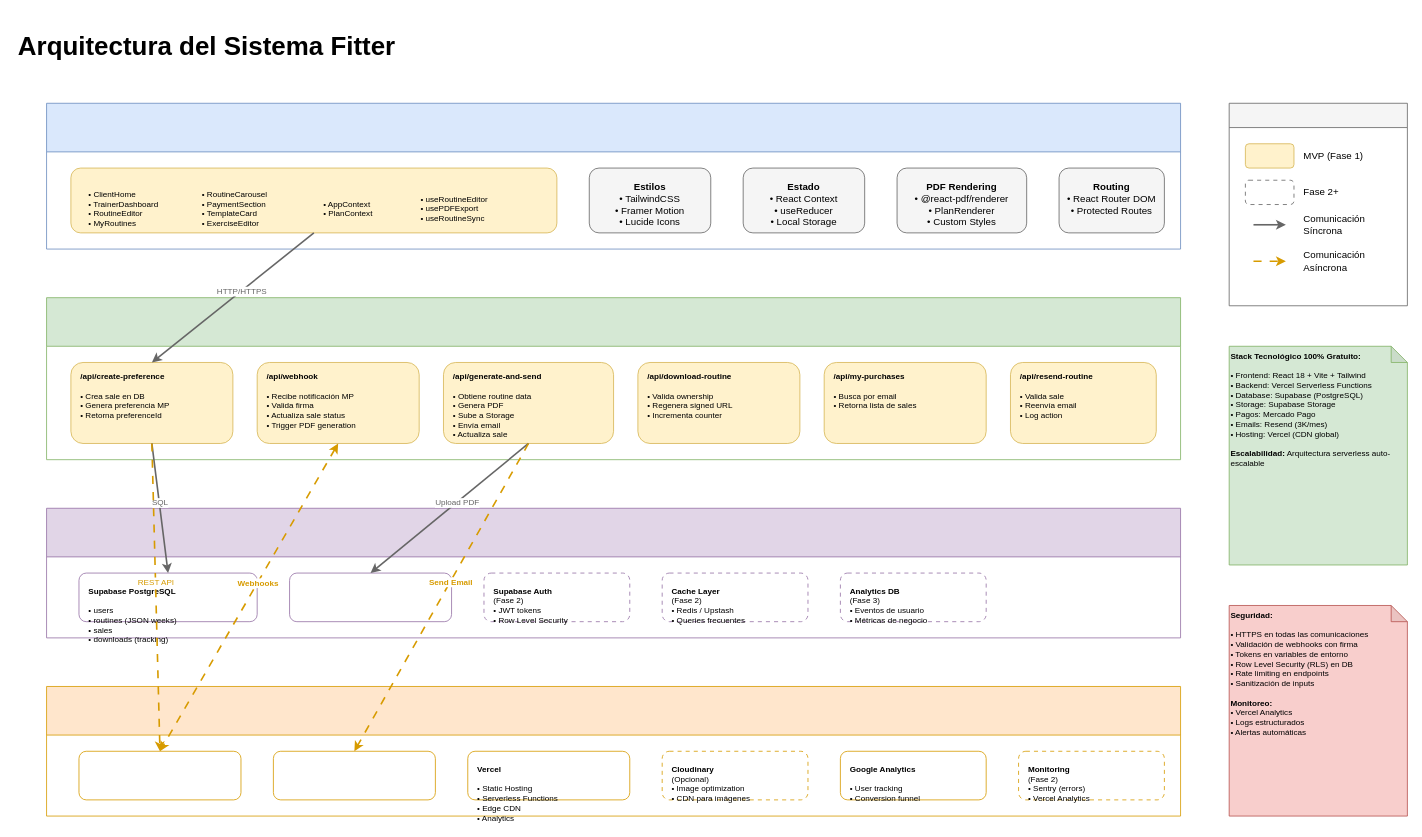
This 1422x837 diagram has some shape labels left out. Each missing label, with the box of its shape:
CAPA DE DATOS Y PERSISTENCIA: (46, 507, 1181, 638)
CAPA DE LÓGICA DE NEGOCIO (Backend Serverless - Vercel): (46, 297, 1181, 460)
CAPA DE PRESENTACIÓN (Cliente - Navegador): (46, 102, 1181, 249)
LEYENDA: (1228, 102, 1407, 306)
Mercado Pago • Checkout API • Webhooks • Payment Validation • Refunds (Fase 2): (78, 750, 241, 800)
React Application (Vite + React 18): (70, 167, 557, 233)
Resend • Transactional Emails • Templates HTML • 3K emails/mes: (273, 750, 435, 800)
SERVICIOS EXTERNOS: (46, 686, 1181, 816)
Supabase Storage • Bucket: training-plans • PDFs generados • Signed URLs (48h): (289, 572, 452, 622)
